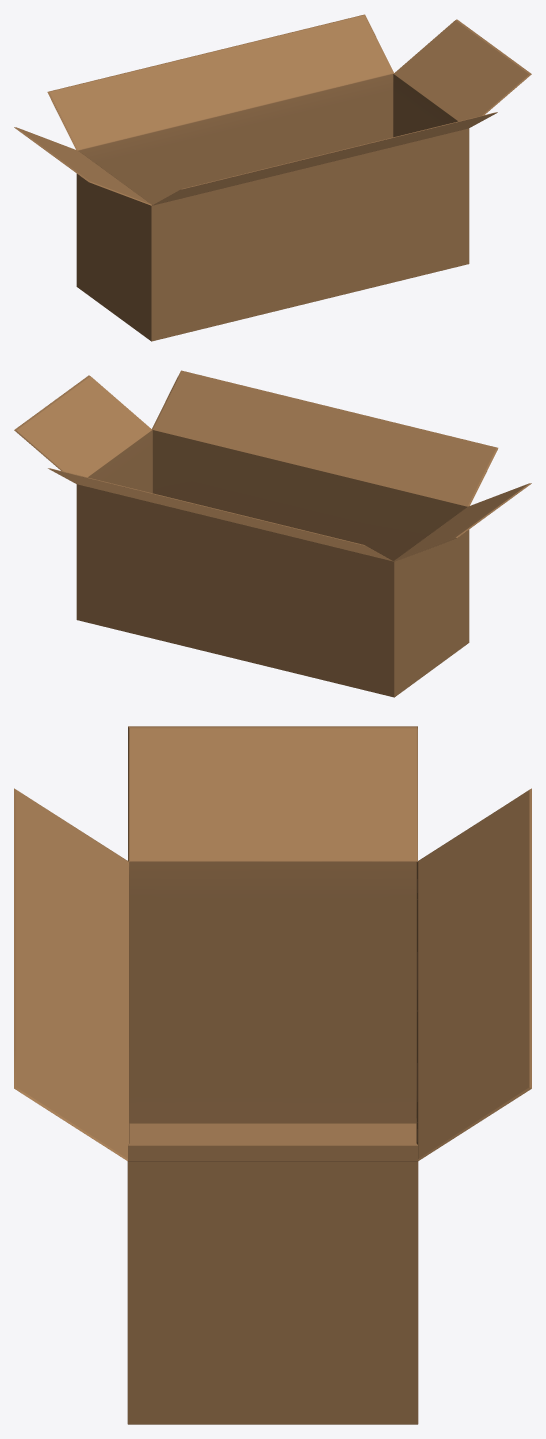
The picture shows the model from 3 angles, top to bottom: view 1: azimuth 30°, elevation 25°; view 2: azimuth 150°, elevation 25°; view 3: azimuth 270°, elevation 25°; orthographic projection. The views are drawn at different scales.
Parts seen in each view (by area): view 1: pCube1; view 2: pCube1; view 3: pCube1.
Boxes of the visible parts, box(x1,y1,x2,y2) form: pCube1: box(14, 14, 531, 341); pCube1: box(14, 370, 531, 697); pCube1: box(14, 726, 531, 1424).
Bounding box in the file's own units: 0.0342 × 0.0129 × 0.0178.
1 material, 1 textured.
